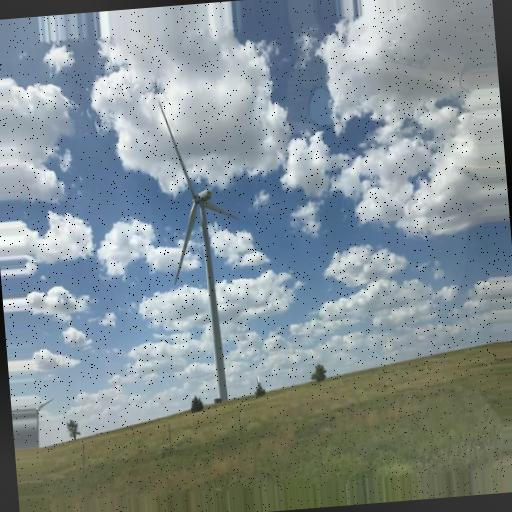wind turbine: (156, 100, 240, 404)
